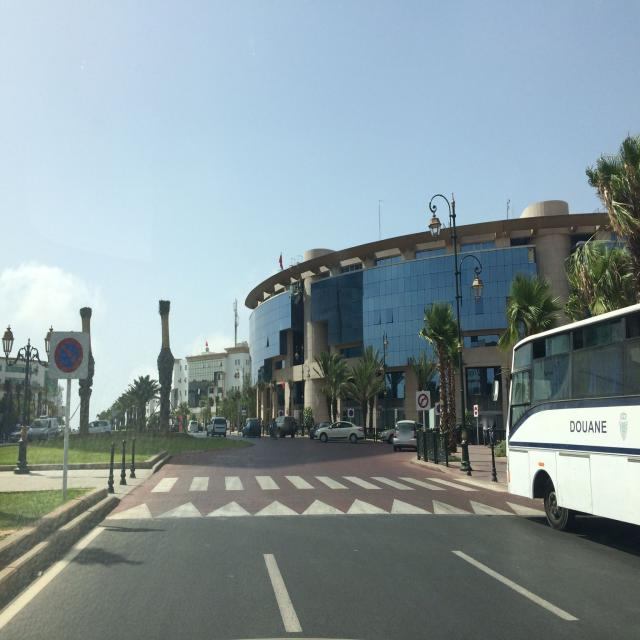forb_stopping: (53, 336, 83, 374)
